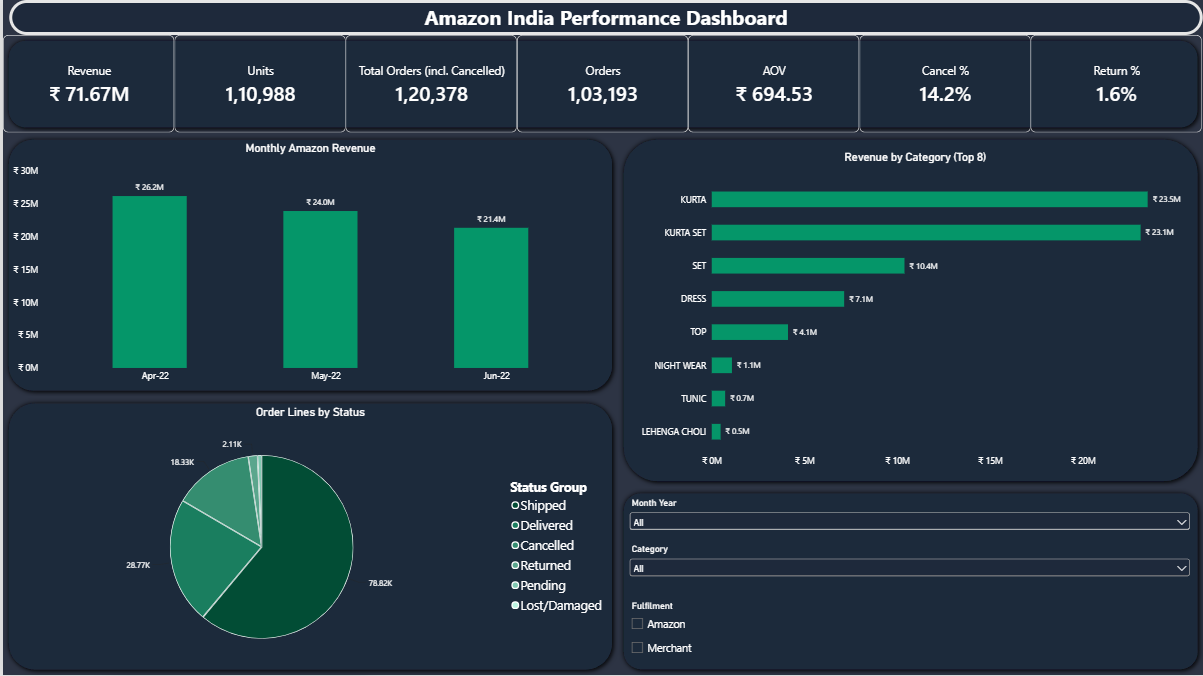

What the dashboard file says about the page in this screenshot:
{"tool":"powerbi","page":{"name":"KPIs, monthly trend, category, status","canvas":[1920,1080],"ordinal":0},"visuals":[{"type":"shape","box":[0,55.8,1920.4,157],"z":0,"group":"g1"},{"type":"group","id":"g1","title":"Group 1","box":[0,55.8,1920.4,1023.8],"z":500},{"type":"cardVisual","fields":{"Data":["_Measures.Revenue","_Measures.Units","_Measures.Total Orders (incl. Cancelled)","_Measures.Orders","_Measures.AOV","_Measures.Cancel %","_Measures.Return %"]},"box":[0,55.8,1920.4,157],"z":1000},{"type":"shape","box":[0,214.5,983.7,420.4],"z":1000,"group":"g1"},{"type":"textbox","box":[10.5,0,1909.9,55.8],"z":2000},{"type":"shape","box":[983.7,214.5,936.6,565.1],"z":2000,"group":"g1"},{"type":"clusteredColumnChart","title":"Monthly Amazon Revenue","fields":{"Category":["Dim_Date.Month Year"],"Y":["_Measures.Revenue"]},"box":[0,212.8,983.7,420.4],"z":3000},{"type":"shape","box":[0,634.9,983.7,444.8],"z":3000,"group":"g1"},{"type":"barChart","title":"Revenue by Category (Top 8)","fields":{"Category":["Dim_Product.Category"],"Y":["_Measures.Revenue"]},"box":[997.6,225.4,922.4,542.6],"z":4000},{"type":"shape","box":[983.7,779.6,936.6,300],"z":4000,"group":"g1"},{"type":"pieChart","title":"Order Lines by Status","fields":{"Category":["Amazon_Sales.Status Group"],"Y":["CountNonNull(Amazon_Sales.Order ID)"]},"box":[0,633.1,983.7,446.5],"z":5000},{"type":"slicer","fields":{"Values":["Dim_Date.Month Year"]},"box":[997.6,795.1,905.7,75.1],"z":6000},{"type":"slicer","fields":{"Values":["Dim_Product.Category"]},"box":[997.6,870.3,905.7,89.7],"z":7000},{"type":"slicer","fields":{"Values":["Amazon_Sales.Fulfilment"]},"box":[997.6,960,922.4,119],"z":8000}]}

Visuals, with their boxes in screenshot pixels (x1, y1, x2, y2), scaled from the page's 1920x1080 canvas onto the 1203x676 screenshot:
shape: [x1=0, y1=35, x2=1202, y2=133]
"Group 1" group: [x1=0, y1=35, x2=1202, y2=675]
cardVisual - _Measures.Revenue x _Measures.Units: [x1=0, y1=35, x2=1202, y2=133]
shape: [x1=0, y1=134, x2=616, y2=397]
textbox: [x1=7, y1=0, x2=1202, y2=35]
shape: [x1=616, y1=134, x2=1202, y2=488]
"Monthly Amazon Revenue" clusteredColumnChart: [x1=0, y1=133, x2=616, y2=396]
shape: [x1=0, y1=397, x2=616, y2=675]
"Revenue by Category (Top 8)" barChart: [x1=625, y1=141, x2=1202, y2=481]
shape: [x1=616, y1=488, x2=1202, y2=675]
"Order Lines by Status" pieChart: [x1=0, y1=396, x2=616, y2=675]
slicer - Dim_Date.Month Year: [x1=625, y1=498, x2=1193, y2=545]
slicer - Dim_Product.Category: [x1=625, y1=545, x2=1193, y2=601]
slicer - Amazon_Sales.Fulfilment: [x1=625, y1=601, x2=1202, y2=675]
